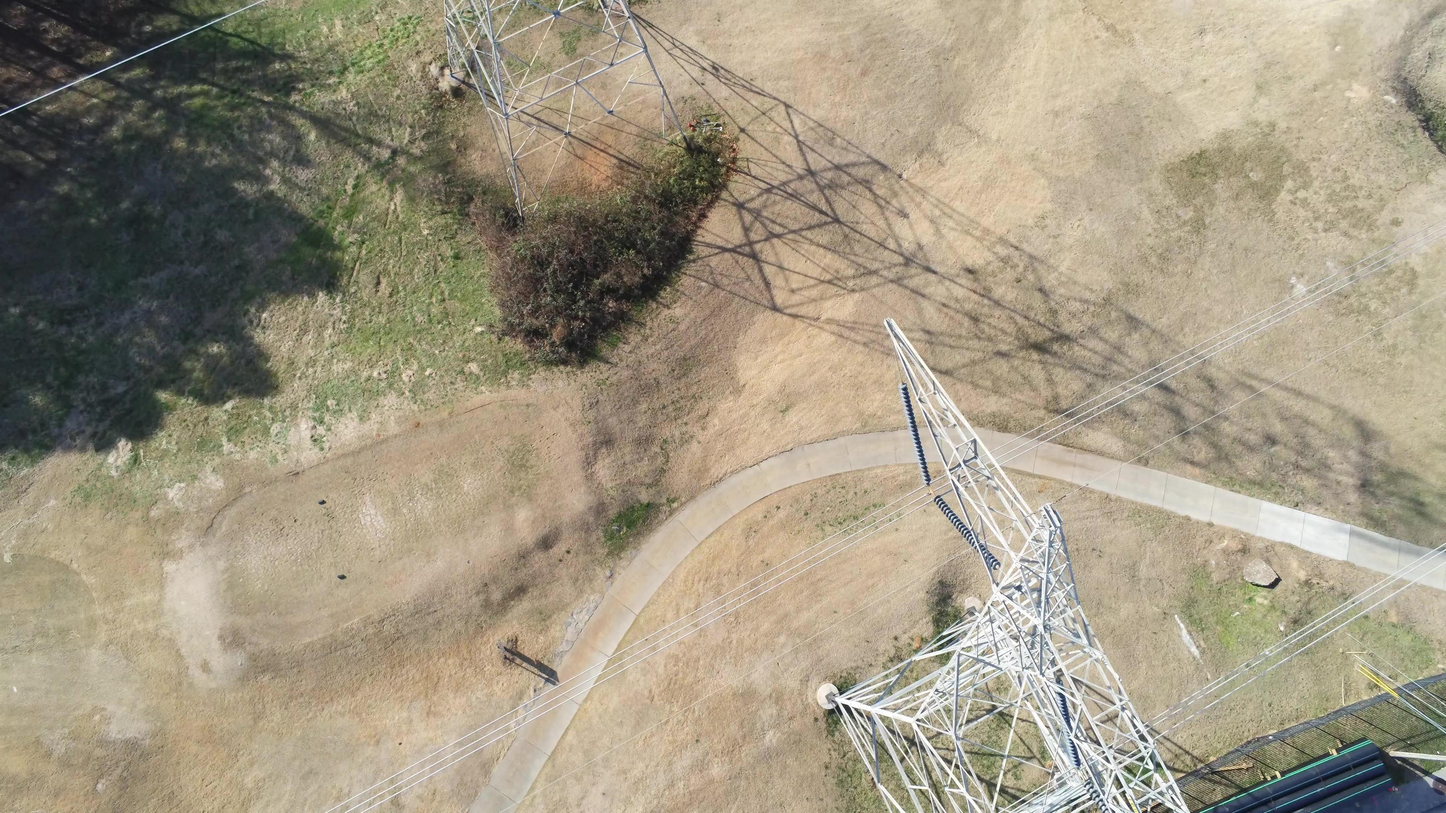power_tower: (830, 317, 1192, 813), (442, 0, 689, 227)
